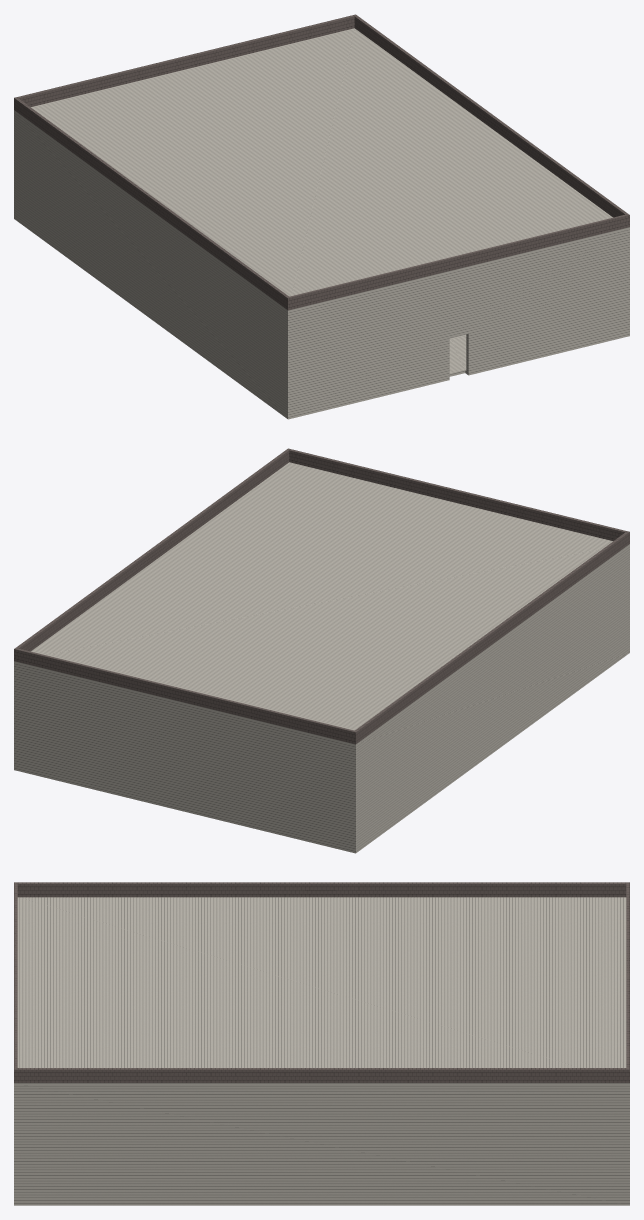
The model's file is police_station.glb.
The picture shows the model from 3 angles, top to bottom: view 1: azimuth 30°, elevation 25°; view 2: azimuth 150°, elevation 25°; view 3: azimuth 270°, elevation 25°; orthographic projection. The views are drawn at different scales.
Visible parts, largest first — view 1: police_station-col; view 2: police_station-col; view 3: police_station-col.
Boxes of the visible parts, x1=… form: police_station-col: x1=14, y1=14, x2=629, y2=419; police_station-col: x1=14, y1=448, x2=629, y2=853; police_station-col: x1=14, y1=882, x2=629, y2=1205.
Bounding box in the file's own units: 18 × 6.09 × 25.
2 materials, 2 textured.
